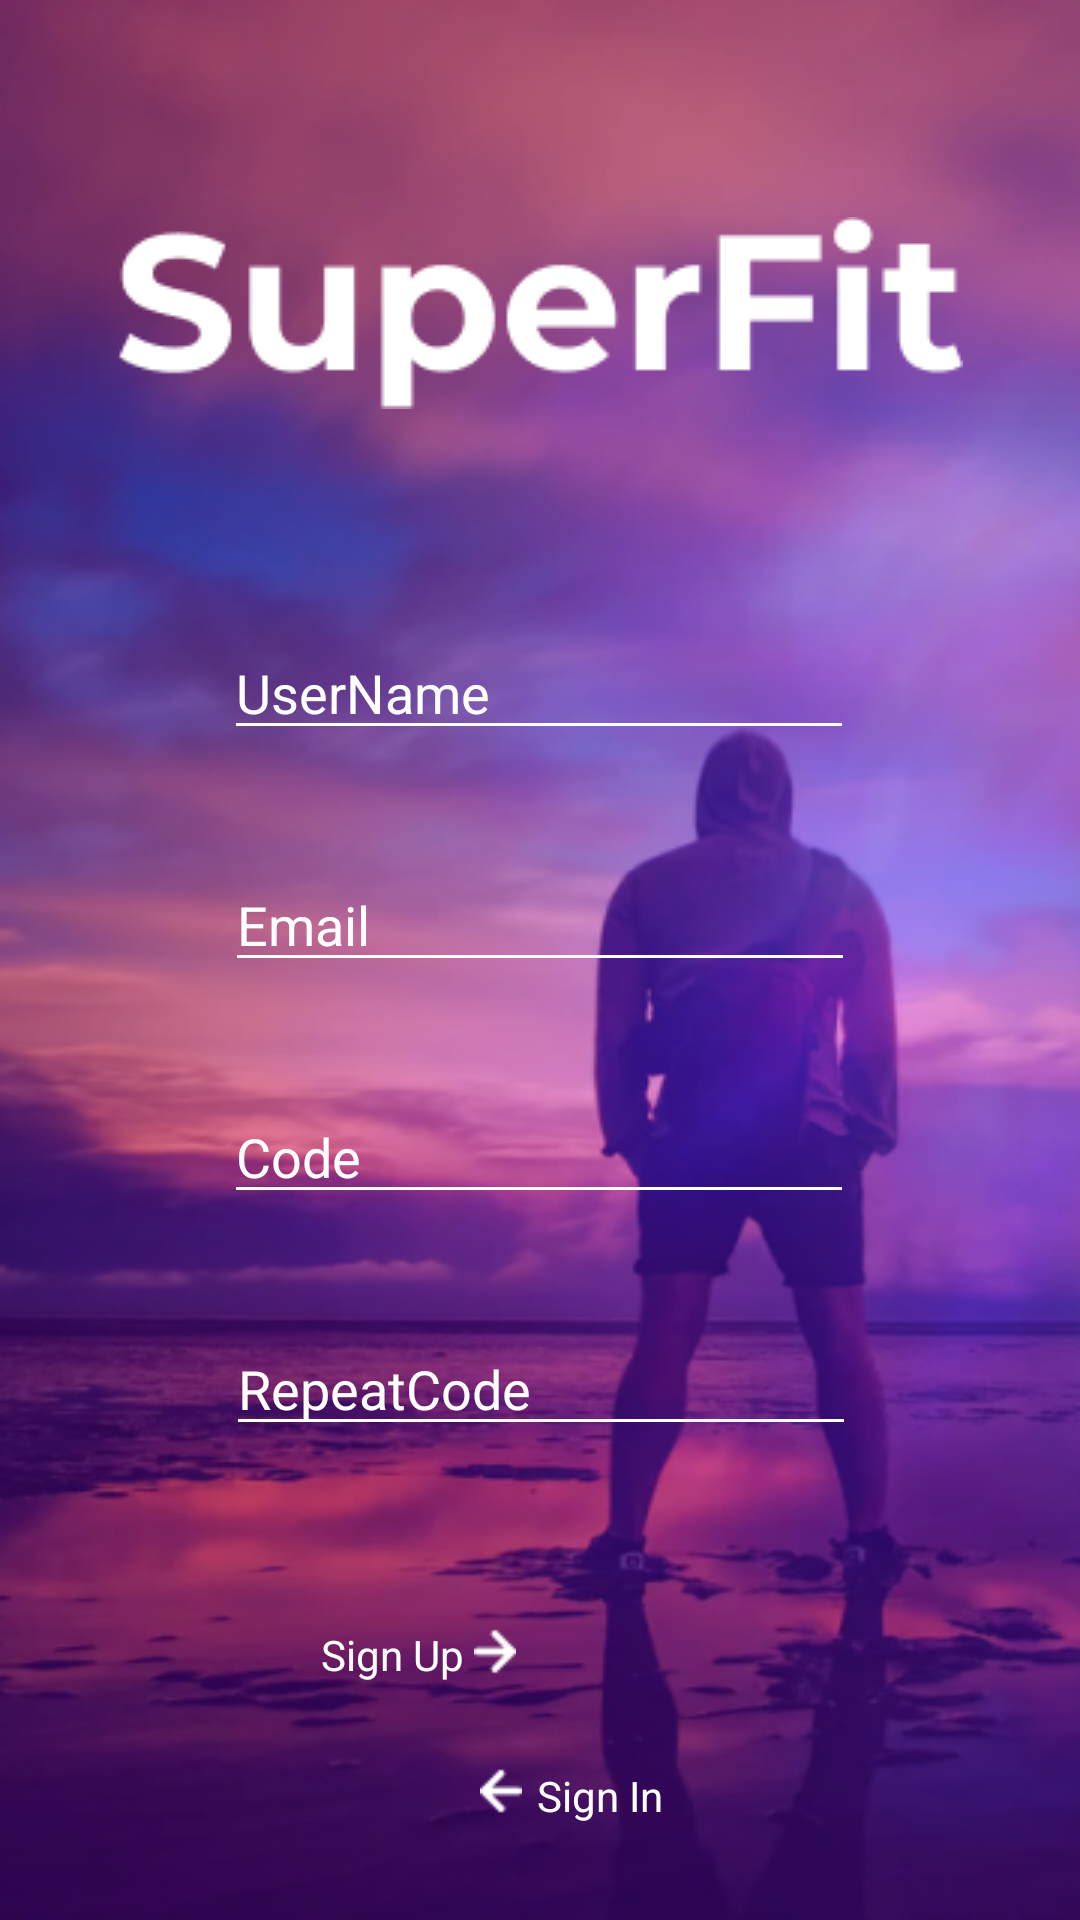

Icon bounding boxes for this 1080*1920 phone screenshot, format box=[x1, y1, x2, y2]:
vectorleftleft: box=[480, 1769, 522, 1813]
